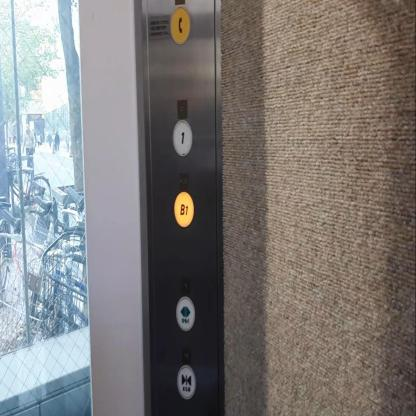1: (171, 116, 194, 158)
B1: (173, 188, 195, 229)
call: (168, 3, 192, 46)
close: (175, 360, 197, 401)
open: (174, 293, 196, 334)
